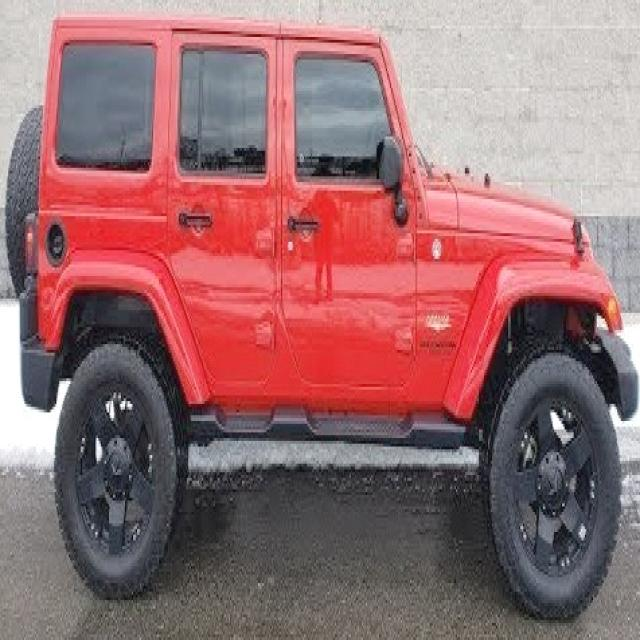red: (0, 11, 618, 552)
